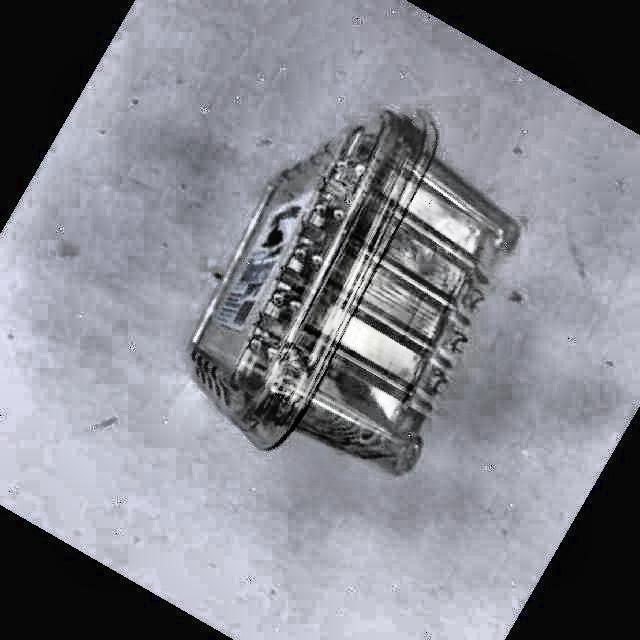plastic: (191, 111, 518, 472)
